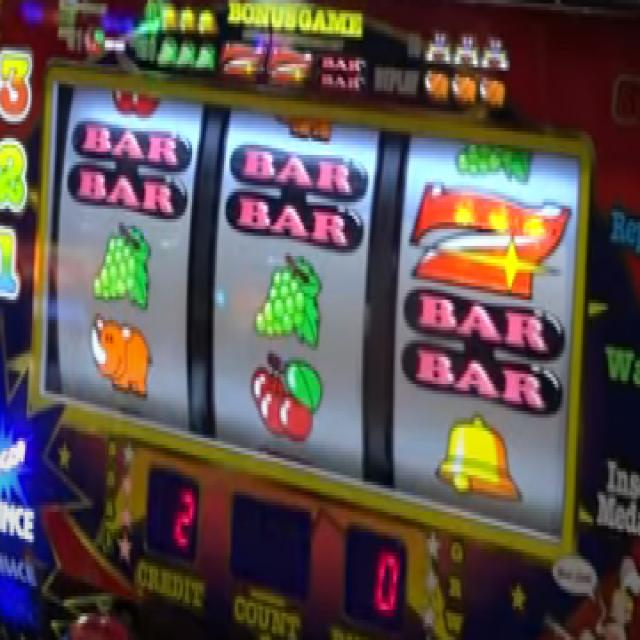bar: (400, 291, 563, 412), (226, 138, 364, 251), (70, 122, 189, 217), (318, 52, 364, 92)
bell: (433, 407, 525, 504), (158, 2, 178, 33), (196, 5, 216, 36), (179, 3, 196, 34)
cherry: (250, 354, 322, 445), (109, 82, 159, 116)
clown: (422, 29, 452, 66), (482, 33, 511, 71), (452, 29, 480, 68)
display: (44, 80, 576, 549)
elephant: (91, 316, 152, 402), (479, 71, 505, 108), (450, 73, 477, 106), (423, 69, 449, 103)
grape: (252, 251, 322, 346), (92, 221, 154, 306), (456, 138, 537, 184), (176, 38, 196, 71), (156, 38, 177, 68), (196, 42, 216, 71)
z: (411, 180, 572, 296), (220, 40, 268, 81), (270, 42, 313, 84)
